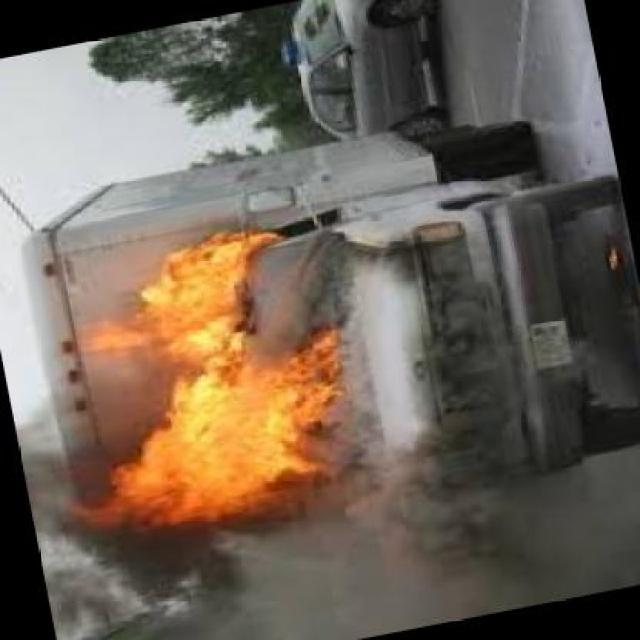Fire: (102, 218, 339, 518)
Smoke: (338, 245, 550, 537), (69, 526, 484, 628)
